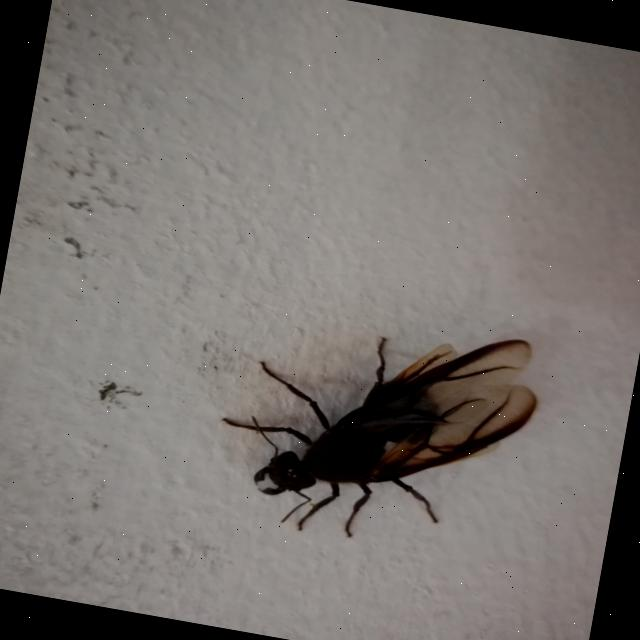Alive-Female-Alate: (203, 290, 548, 569)
